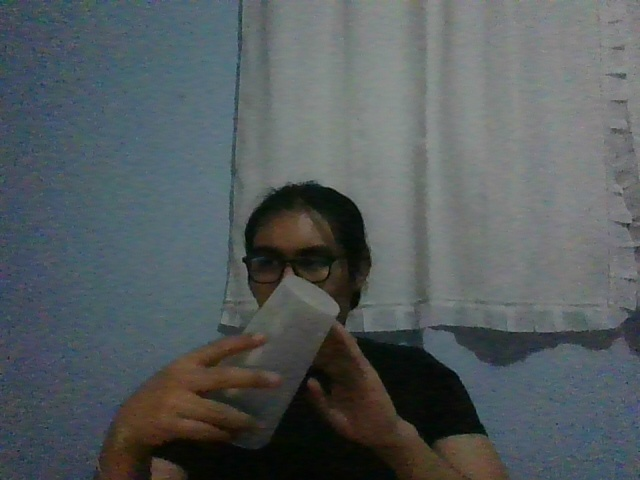vaso: (204, 275, 340, 450)
